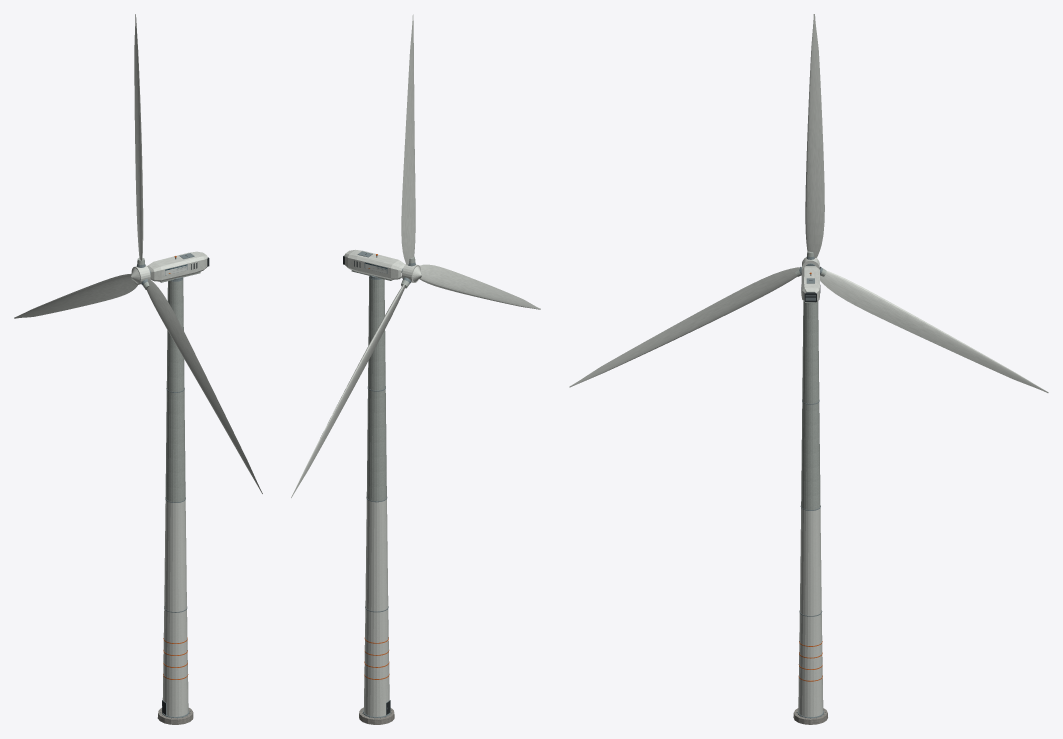
File: PZ_Ravenwind_RW112_Wind_Turbine.glb
The picture shows the model from 3 angles, left to right: view 1: azimuth 30°, elevation 25°; view 2: azimuth 150°, elevation 25°; view 3: azimuth 270°, elevation 25°; orthographic projection. The views are drawn at different scales.
Parts seen in each view (by area): view 1: TOWER_PaintedSteel_Section_01, TOWER_PaintedSteel_Section_02, BLADE_2_AerodynamicShell, TOWER_PaintedSteel_Section_03, BLADE_3_AerodynamicShell, BLADE_1_AerodynamicShell, TOWER_PaintedSteel_Section_04, NACELLE_MainAeroShell; view 2: TOWER_PaintedSteel_Section_01, TOWER_PaintedSteel_Section_02, BLADE_1_AerodynamicShell, TOWER_PaintedSteel_Section_03, BLADE_2_AerodynamicShell, TOWER_PaintedSteel_Section_04, BLADE_3_AerodynamicShell, NACELLE_MainAeroShell; view 3: BLADE_3_AerodynamicShell, BLADE_1_AerodynamicShell, BLADE_2_AerodynamicShell, TOWER_PaintedSteel_Section_01, TOWER_PaintedSteel_Section_02, TOWER_PaintedSteel_Section_03, TOWER_PaintedSteel_Section_04.
Part boxes in pixels (left/top/right/bottom): TOWER_PaintedSteel_Section_01: left=162, top=609, right=188, bottom=716; TOWER_PaintedSteel_Section_02: left=164, top=500, right=186, bottom=611; BLADE_2_AerodynamicShell: left=146, top=279, right=262, bottom=493; TOWER_PaintedSteel_Section_03: left=165, top=390, right=185, bottom=502; BLADE_3_AerodynamicShell: left=14, top=273, right=137, bottom=318; BLADE_1_AerodynamicShell: left=134, top=14, right=143, bottom=260; TOWER_PaintedSteel_Section_04: left=166, top=279, right=184, bottom=391; NACELLE_MainAeroShell: left=147, top=251, right=207, bottom=281; TOWER_PaintedSteel_Section_01: left=363, top=609, right=389, bottom=716; TOWER_PaintedSteel_Section_02: left=365, top=499, right=388, bottom=611; BLADE_1_AerodynamicShell: left=401, top=14, right=415, bottom=264; TOWER_PaintedSteel_Section_03: left=366, top=389, right=386, bottom=501; BLADE_2_AerodynamicShell: left=419, top=264, right=540, bottom=309; TOWER_PaintedSteel_Section_04: left=368, top=277, right=385, bottom=390; BLADE_3_AerodynamicShell: left=291, top=284, right=404, bottom=497; NACELLE_MainAeroShell: left=344, top=249, right=404, bottom=279; BLADE_3_AerodynamicShell: left=820, top=270, right=1048, bottom=392; BLADE_1_AerodynamicShell: left=805, top=14, right=824, bottom=257; BLADE_2_AerodynamicShell: left=569, top=267, right=799, bottom=387; TOWER_PaintedSteel_Section_01: left=798, top=613, right=823, bottom=716; TOWER_PaintedSteel_Section_02: left=799, top=508, right=821, bottom=615; TOWER_PaintedSteel_Section_03: left=801, top=402, right=820, bottom=509; TOWER_PaintedSteel_Section_04: left=802, top=301, right=819, bottom=403.
Bounding box in the file's own units: 16.19 × 146 × 92.5.
Materials: 7 (7 with a texture image).
